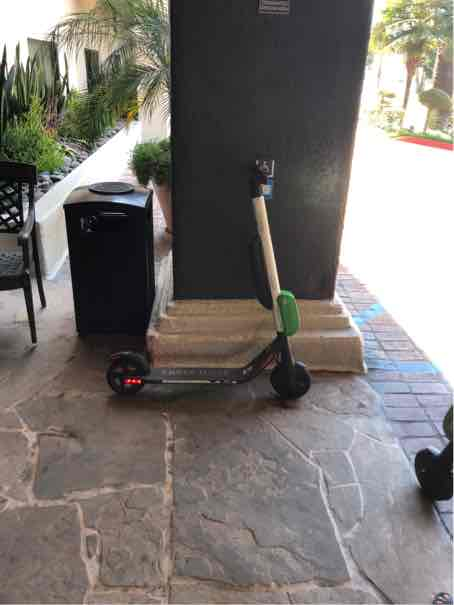scooter: (96, 140, 308, 413)
